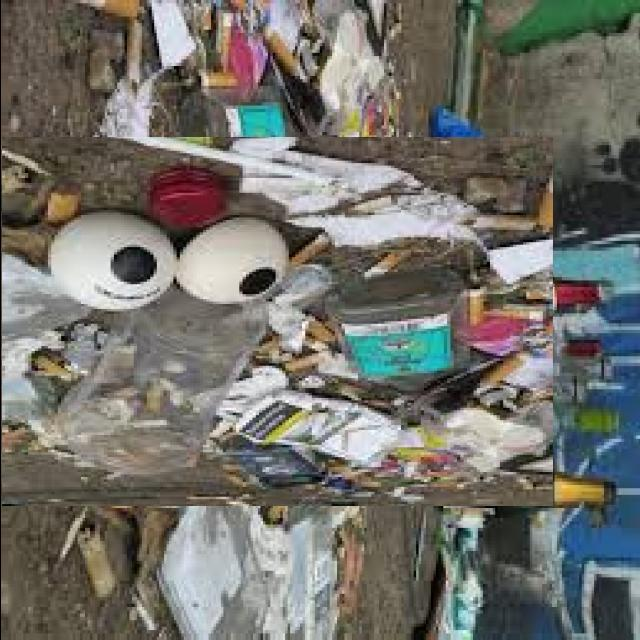garbage: (0, 69, 485, 573)
